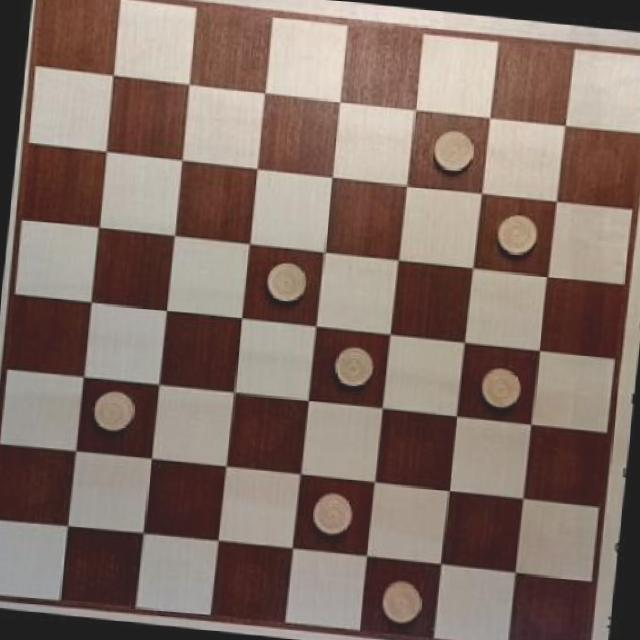BOARD: (0, 0, 640, 640)
white: (321, 336, 376, 398), (423, 119, 478, 179), (472, 357, 526, 415), (305, 484, 357, 544), (488, 204, 538, 266), (260, 258, 312, 312), (86, 384, 141, 434), (373, 574, 422, 628)
